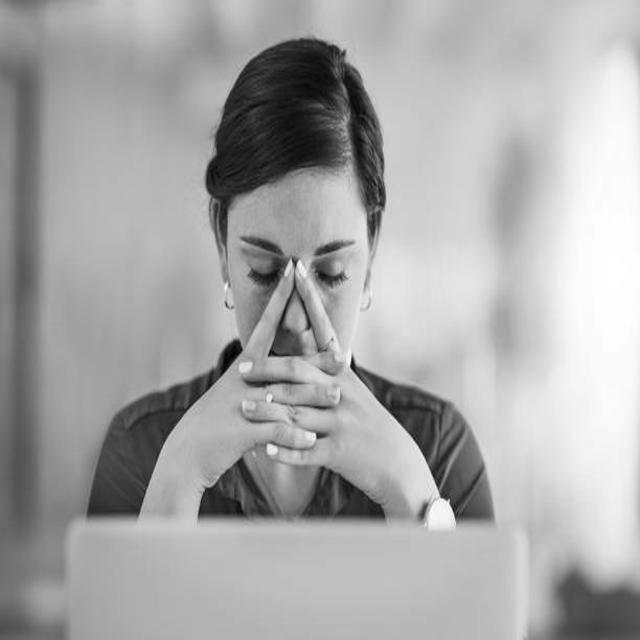Sadness: (223, 178, 370, 395)
